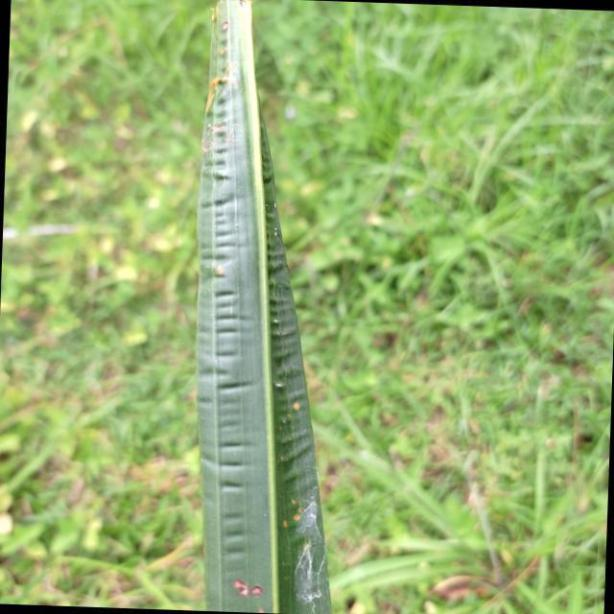Boron: (196, 1, 335, 614)
